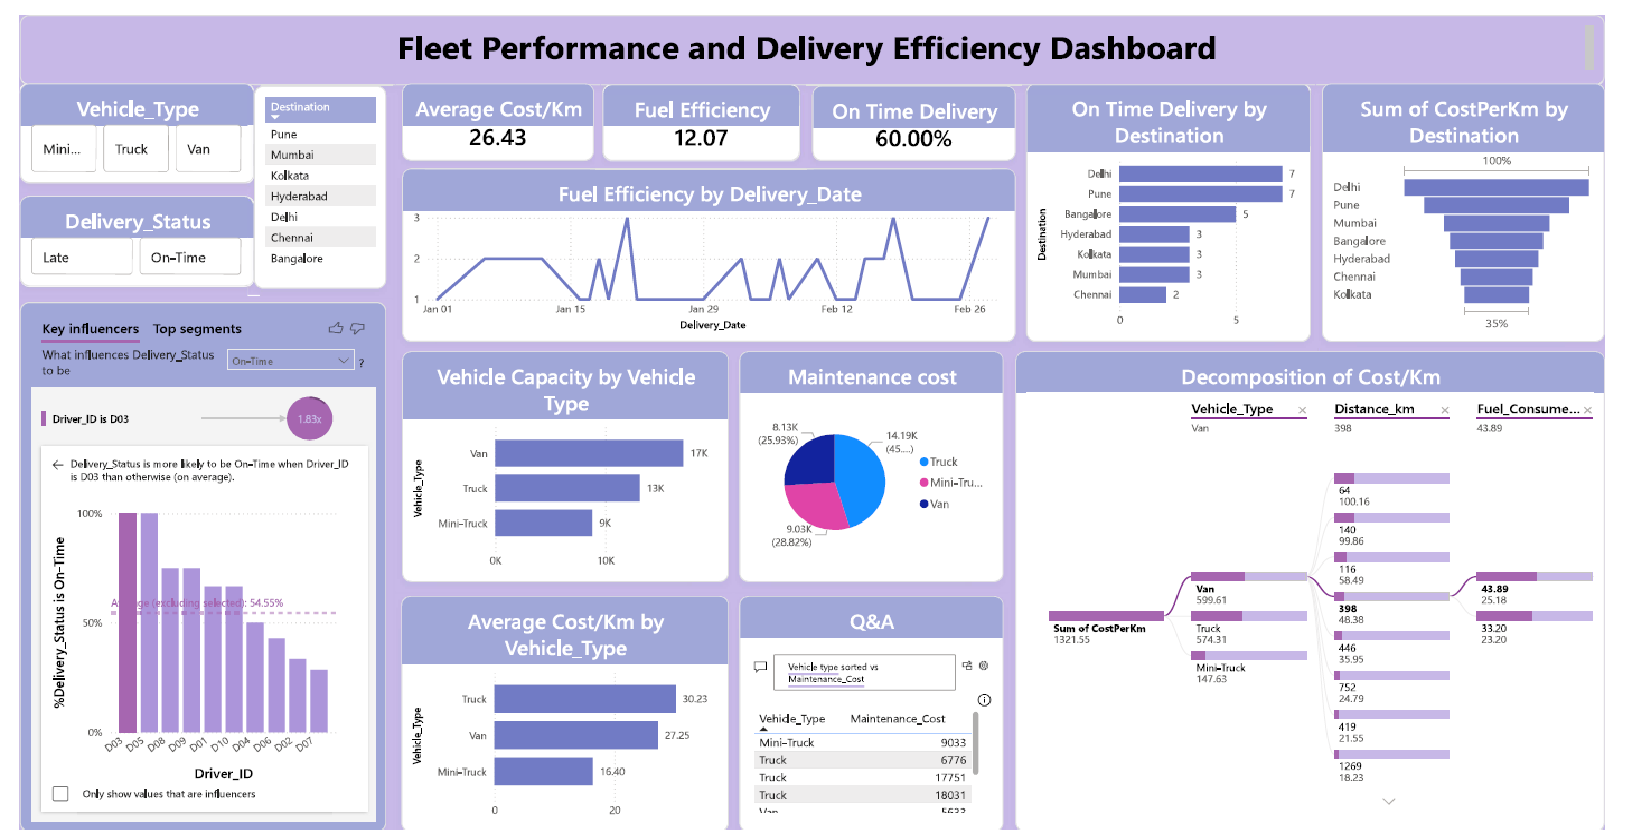

The dashboard page shown, as its layout file describes it:
{"tool":"powerbi","page":{"name":"Page 1","canvas":[1800,1000],"ordinal":0},"visuals":[{"type":"barChart","title":"On Time Delivery by Destination","fields":{"Y":["Trip_Data.OnTimeDelivery%"],"Category":["Trip_Data.Destination"]},"box":[1143.1,82.8,322.4,312.1],"z":0},{"type":"lineChart","title":"Fuel Efficiency by Delivery_Date","fields":{"Category":["Trip_Data.Delivery_Date.Variation.Date Hierarchy.Day"],"Y":["CountNonNull(Trip_Data.Fuel Efficiency)"]},"box":[434.5,186.2,696.6,208.6],"z":1000},{"type":"card","title":"Fuel Efficiency","fields":{"Values":["Avg(Trip_Data.Fuel Efficiency)"]},"box":[662.1,84.5,224.1,91.4],"z":2000},{"type":"pieChart","title":"Maintenance Cost by Vehicle Type","fields":{"Category":["Vehicle_Master.Vehicle_Type"],"Y":["Avg(Vehicle_Master.Maintenance_Cost)"]},"box":[1378.6,473.2,257.1,241.1],"z":3000},{"type":"textbox","box":[0,0,1800,85.4],"z":4000},{"type":"clusteredBarChart","title":"Vehicle Capacity by Vehicle Type","fields":{"Category":["Vehicle_Master.Vehicle_Type"],"Y":["Sum(Vehicle_Master.Capacity_kg)"]},"box":[434.5,406.9,370.7,279.3],"z":5000},{"type":"clusteredBarChart","title":"Average Cost/Km by Vehicle_Type","fields":{"Category":["Vehicle_Master.Vehicle_Type"],"Y":["Avg(Trip_Data.CostPerKm)"]},"box":[432.8,703.4,372.4,284.5],"z":6000},{"type":"card","title":"On Time Delivery","fields":{"Values":["Trip_Data.OnTime Delivery"]},"box":[900,86.2,231,89.7],"z":7000},{"type":"card","title":"Average Cost/Km","fields":{"Values":["Trip_Data.Average_CostPerKM"]},"box":[434.5,82.8,217.2,93.1],"z":8000},{"type":"decompositionTreeVisual","title":"Decomposition of Cost/Km","fields":{"Analyze":["Sum(Trip_Data.CostPerKm)"],"ExplainBy":["Vehicle_Master.Vehicle_Type","Trip_Data.Distance_km","Trip_Data.Fuel_Consumed_L","Vehicle_Master.Maintenance_Cost"]},"box":[1131,406.9,669,581],"z":9000},{"type":"funnel","fields":{"Category":["Trip_Data.Destination"],"Y":["Sum(Trip_Data.CostPerKm)"]},"box":[1479.3,82.8,320.7,312.1],"z":10000},{"type":"advancedSlicerVisual","fields":{"Values":["Vehicle_Master.Vehicle_Type"]},"box":[0,82.8,265.5,120.7],"z":11000},{"type":"advancedSlicerVisual","fields":{"Values":["Trip_Data.Delivery_Status"]},"box":[0,219,265.5,108.6],"z":12000},{"type":"tableEx","title":"Destination","fields":{"Values":["Trip_Data.Destination"]},"box":[265.5,86.2,150,244.8],"z":13000},{"type":"keyDriversVisual","fields":{"Target":["Trip_Data.Delivery_Status"],"ExplainBy":["Vehicle_Master.Vehicle_Type","Trip_Data.Driver_ID","Trip_Data.Distance_km"]},"box":[0,346.6,415.5,641.4],"z":13001},{"type":"pieChart","title":"Maintenance cost ","fields":{"Category":["Vehicle_Master.Vehicle_Type"],"Y":["Avg(Vehicle_Master.Maintenance_Cost)"]},"box":[817.2,406.9,300,279.3],"z":13002},{"type":"qnaVisual","title":"Q&A","box":[817.2,703.4,300,284.5],"z":13003}]}

Visuals, with their boxes on the page's 1800x1000 design canvas (x1, y1, x2, y2). These are canvas units, not pixel positions in the 1630x830 screenshot, which may show the page scaled, cropped or inside an application window:
"On Time Delivery by Destination" barChart: BBox(1143, 83, 1466, 395)
"Fuel Efficiency by Delivery_Date" lineChart: BBox(434, 186, 1131, 395)
"Fuel Efficiency" card: BBox(662, 84, 886, 176)
"Maintenance Cost by Vehicle Type" pieChart: BBox(1379, 473, 1636, 714)
textbox: BBox(0, 0, 1800, 85)
"Vehicle Capacity by Vehicle Type" clusteredBarChart: BBox(434, 407, 805, 686)
"Average Cost/Km by Vehicle_Type" clusteredBarChart: BBox(433, 703, 805, 988)
"On Time Delivery" card: BBox(900, 86, 1131, 176)
"Average Cost/Km" card: BBox(434, 83, 652, 176)
"Decomposition of Cost/Km" decompositionTreeVisual: BBox(1131, 407, 1800, 988)
funnel - Trip_Data.Destination x Sum(Trip_Data.CostPerKm): BBox(1479, 83, 1800, 395)
advancedSlicerVisual - Vehicle_Master.Vehicle_Type: BBox(0, 83, 266, 204)
advancedSlicerVisual - Trip_Data.Delivery_Status: BBox(0, 219, 266, 328)
"Destination" tableEx: BBox(266, 86, 416, 331)
keyDriversVisual - Trip_Data.Delivery_Status x Vehicle_Master.Vehicle_Type: BBox(0, 347, 416, 988)
"Maintenance cost " pieChart: BBox(817, 407, 1117, 686)
"Q&A" qnaVisual: BBox(817, 703, 1117, 988)
